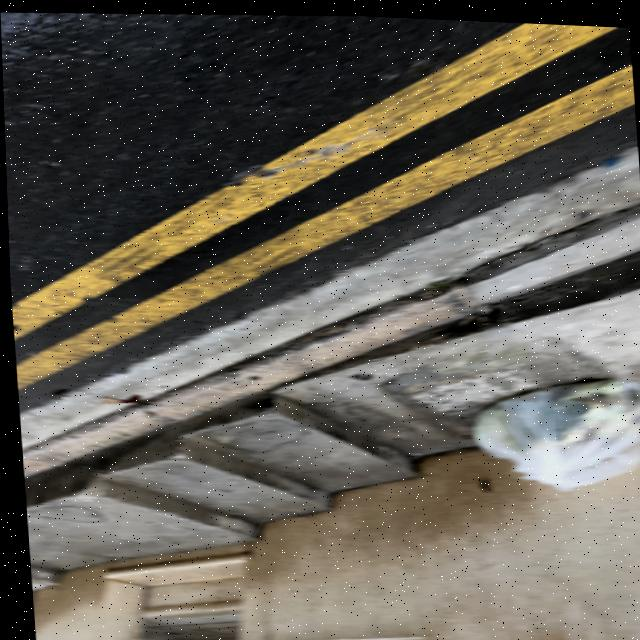Organic Waste -White Bag-: (468, 363, 640, 491)
